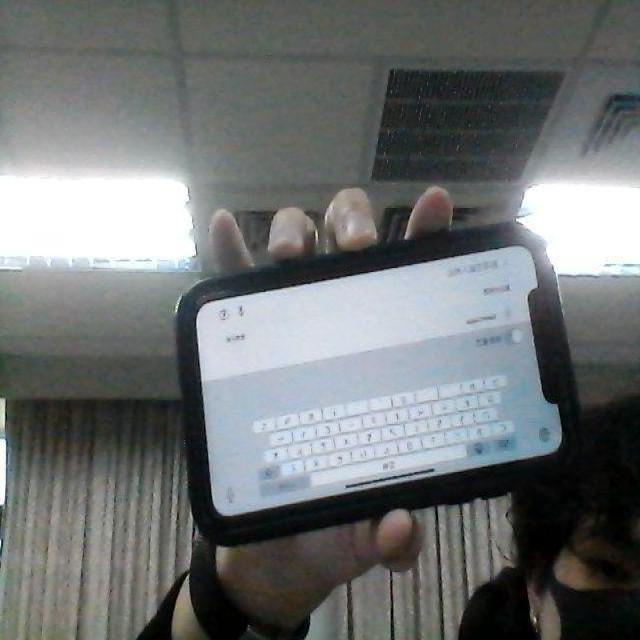mobile: (163, 207, 582, 565)
